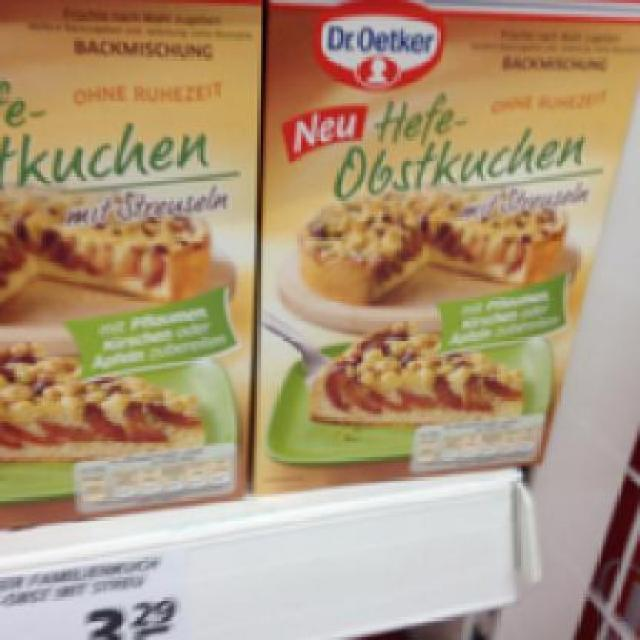Cake: (262, 3, 638, 480), (0, 4, 252, 515)
